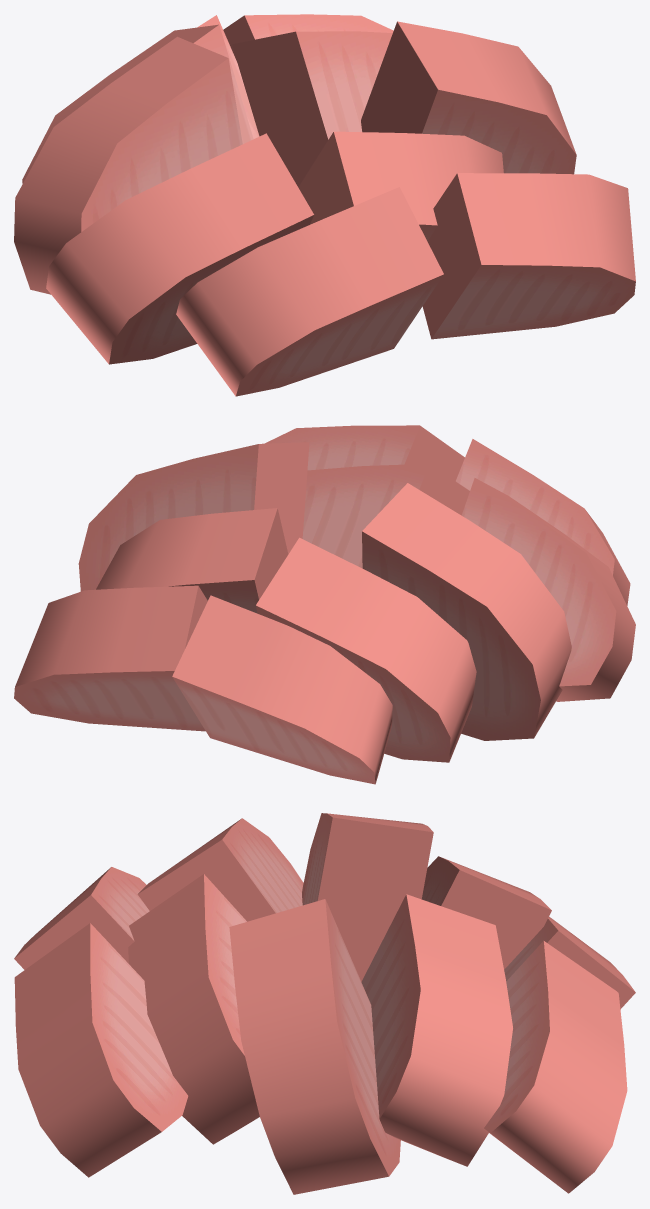
The model's file is Chopped_Chicken.fbx.
3 renders of one model, top to bottom at view 1: azimuth 30°, elevation 25°; view 2: azimuth 150°, elevation 25°; view 3: azimuth 270°, elevation 25°, orthographic. The views are drawn at different scales.
Visible parts, largest first — view 1: Chopped_Chicken; view 2: Chopped_Chicken; view 3: Chopped_Chicken.
Boxes of the visible parts, <box> form: Chopped_Chicken: <box>14,14,635,396</box>; Chopped_Chicken: <box>14,425,635,784</box>; Chopped_Chicken: <box>14,813,635,1194</box>.
Bounding box in the file's own units: 0.9311 × 0.4012 × 0.9304.
Materials: 1 (1 with a texture image).
